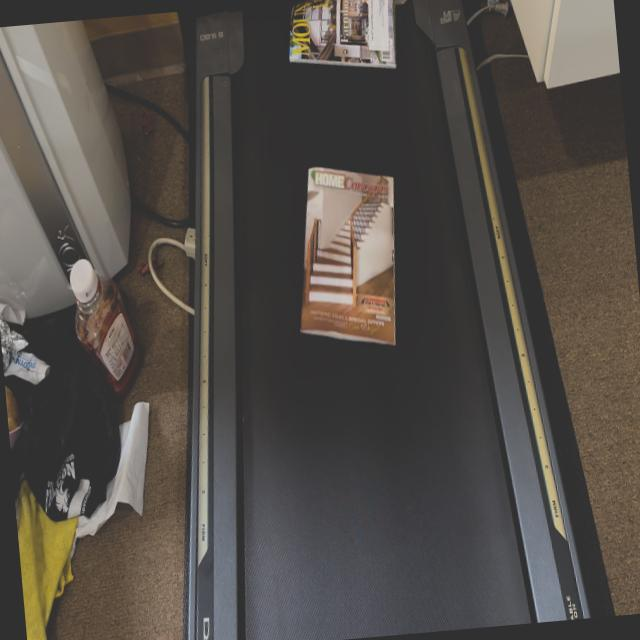Recycle: (284, 156, 409, 355), (281, 0, 400, 78)
